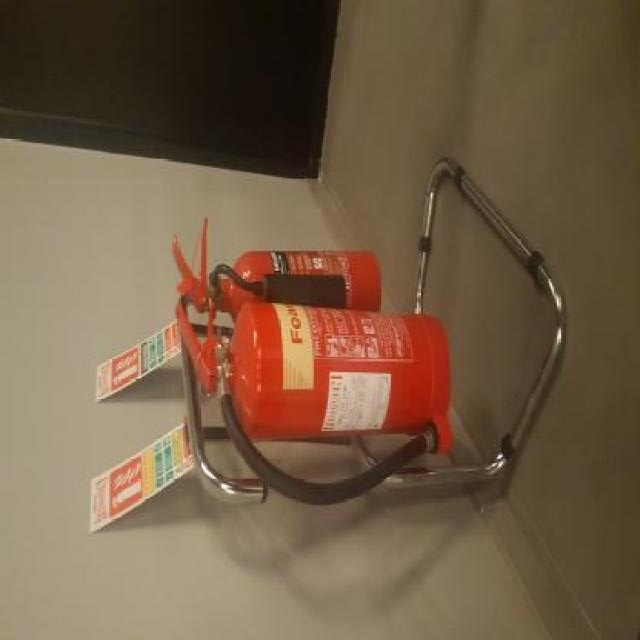fire extinguisher: (175, 299, 456, 503), (170, 217, 382, 321)
